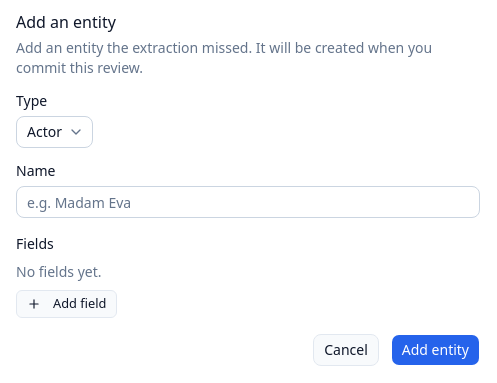
Test: AddEntityForm › offers only Actor and Space (events/relations are not manually addable)
Click the dropdown named "type".
click(54, 132)  # box x1=16 y1=116 x2=93 y2=148
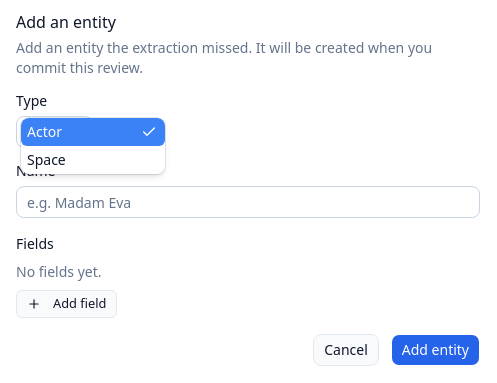
Result: the option "Actor" is shown at x1=21 y1=118 x2=165 y2=146
Result: the option "Space" is shown at x1=27 y1=150 x2=66 y2=169
